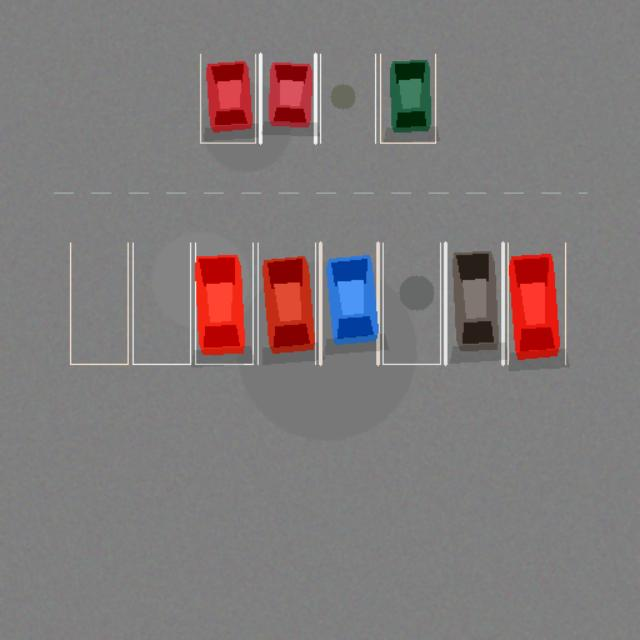space-empty: (70, 243, 128, 364), (132, 243, 190, 364), (382, 243, 440, 364), (320, 54, 375, 142)
space-occupied: (320, 243, 378, 364), (195, 243, 252, 364), (258, 243, 315, 364), (445, 243, 502, 364), (508, 243, 565, 364), (200, 54, 255, 142), (260, 54, 315, 142), (380, 54, 435, 142)
